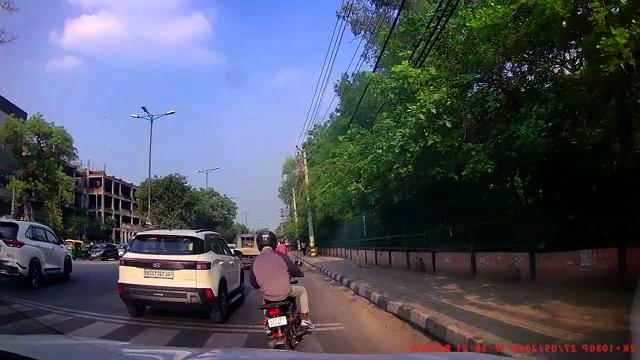motorcycle_with_helmet: (251, 229, 314, 350)
